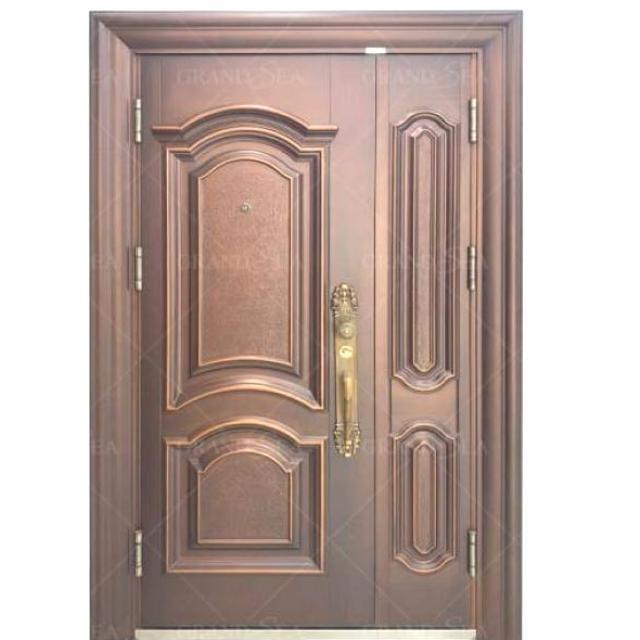door: (125, 44, 376, 636)
